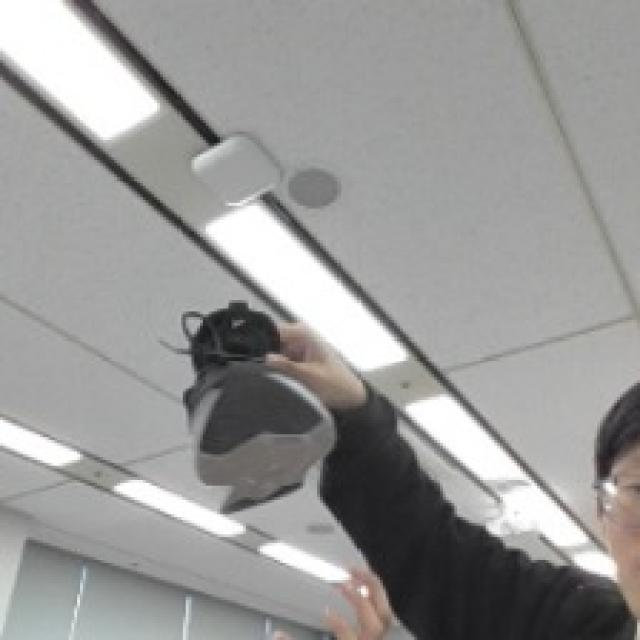shoe: (138, 273, 356, 542)
